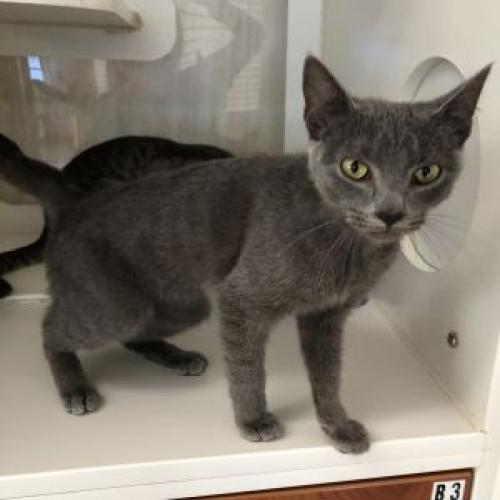rblue: (293, 40, 500, 254)
